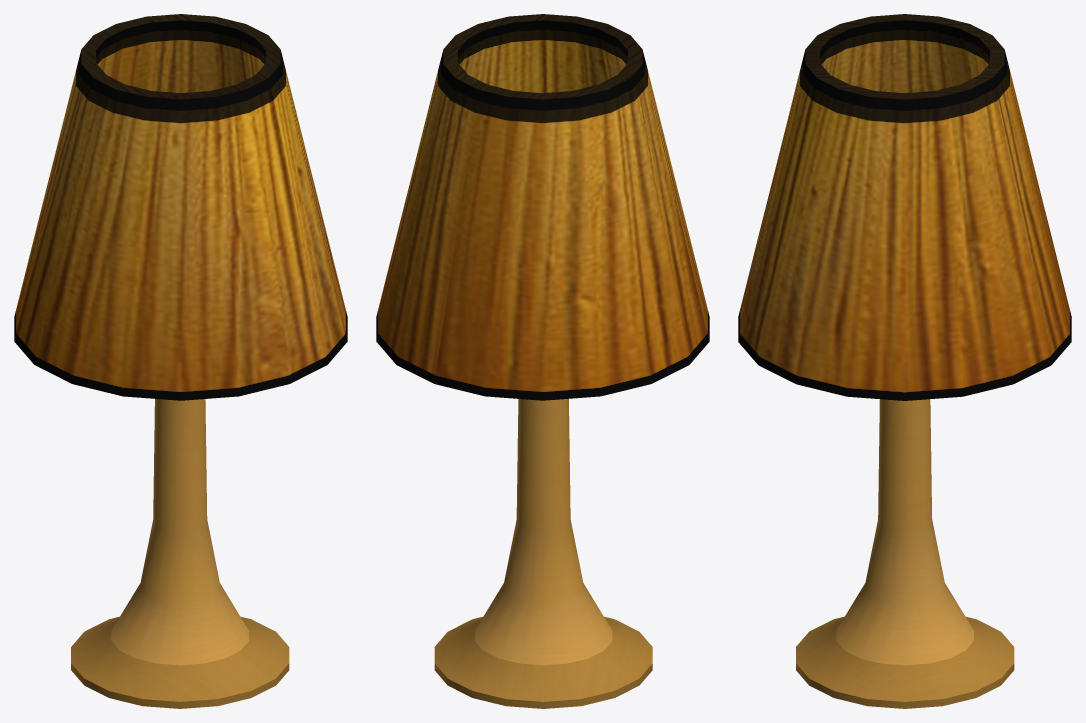
Rendered from Lamp_v2.FBX.
The picture shows the model from 3 angles, left to right: view 1: azimuth 30°, elevation 25°; view 2: azimuth 150°, elevation 25°; view 3: azimuth 270°, elevation 25°; orthographic projection.
Visible parts, largest first — view 1: Lamp001; view 2: Lamp001; view 3: Lamp001.
Boxes of the visible parts, x1=… form: Lamp001: x1=14, y1=14, x2=347, y2=708; Lamp001: x1=376, y1=14, x2=709, y2=708; Lamp001: x1=738, y1=14, x2=1071, y2=708.
Size of the model in its own units: 15.28 by 30.15 by 15.05.
Materials: 1 (1 with a texture image).
